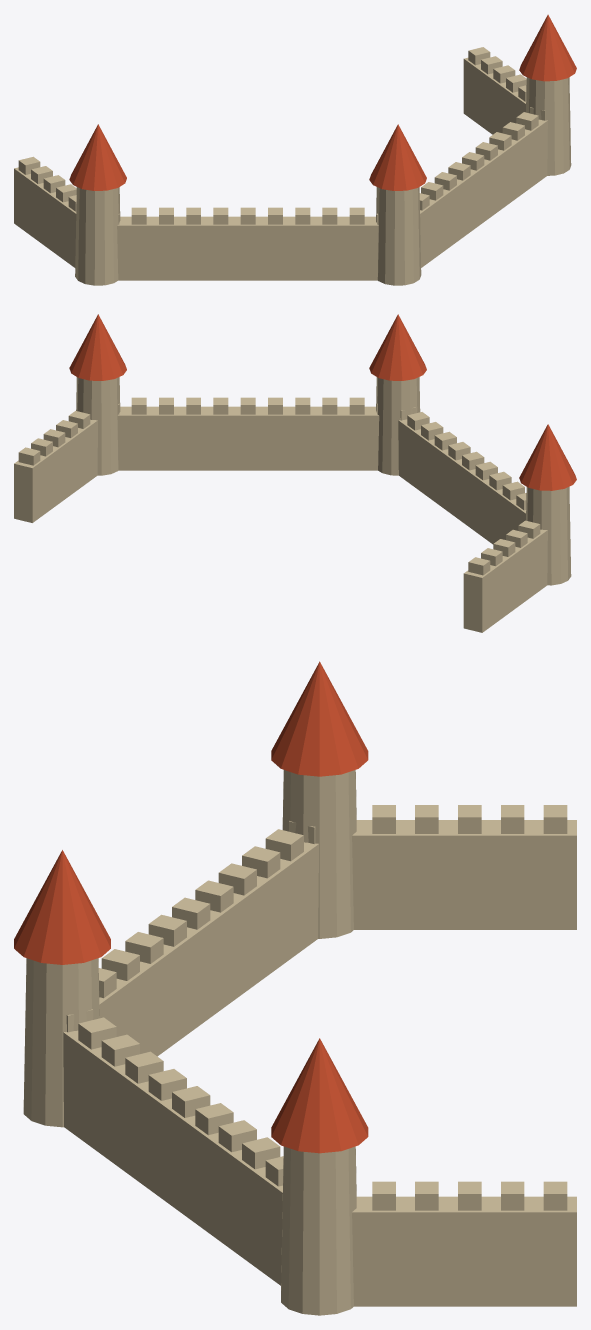
The model's file is walls_1_front.fbx.
The picture shows the model from 3 angles, top to bottom: view 1: azimuth 30°, elevation 25°; view 2: azimuth 150°, elevation 25°; view 3: azimuth 270°, elevation 25°; orthographic projection. The views are drawn at different scales.
Visible parts, largest first — view 1: walls_1_front; view 2: walls_1_front; view 3: walls_1_front.
Part boxes in pixels (x1,y1,x2,y2): walls_1_front: (14, 14, 576, 285); walls_1_front: (14, 314, 576, 632); walls_1_front: (14, 661, 576, 1315).
Size of the model in its own units: 162 by 47 by 91.92.
